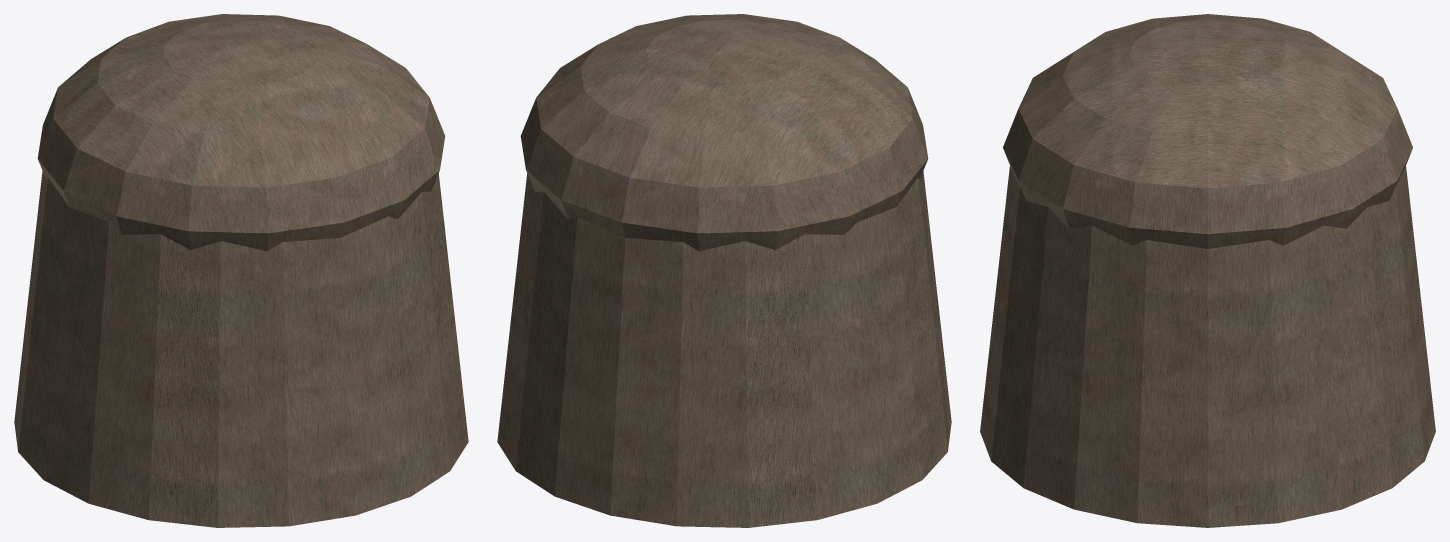
The model's file is prop_haystack.glb.
3 views of the same model, side by side, from view 1: azimuth 30°, elevation 25°; view 2: azimuth 150°, elevation 25°; view 3: azimuth 270°, elevation 25° (orthographic).
Visible parts, largest first — view 1: prop_haystack; view 2: prop_haystack; view 3: prop_haystack.
Boxes of the visible parts, x1,y1,x2,y2 form: prop_haystack: (14,14,468,527); prop_haystack: (497,14,951,527); prop_haystack: (980,14,1435,527).
Bounding box in the file's own units: 3.2 × 2.99 × 3.2.
Materials: 1 (1 with a texture image).
